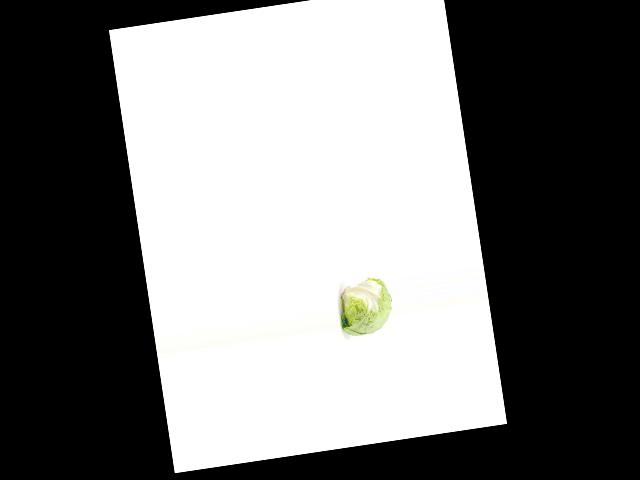lettuce: (332, 274, 396, 339)
